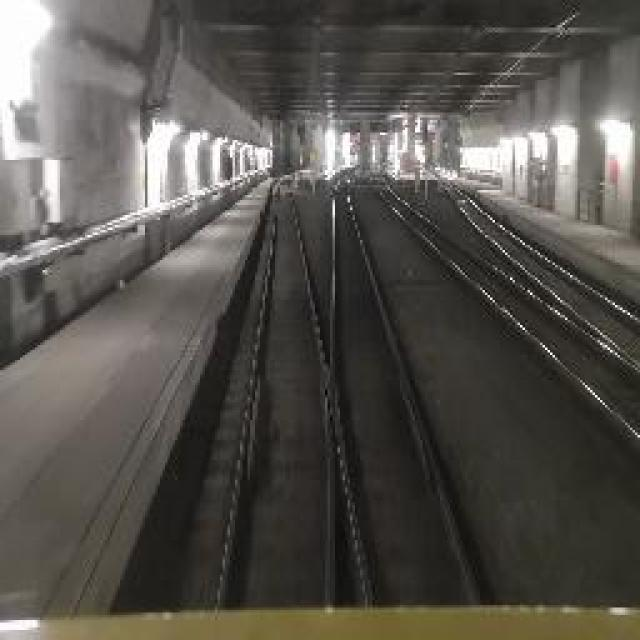rail: (188, 176, 512, 618)
